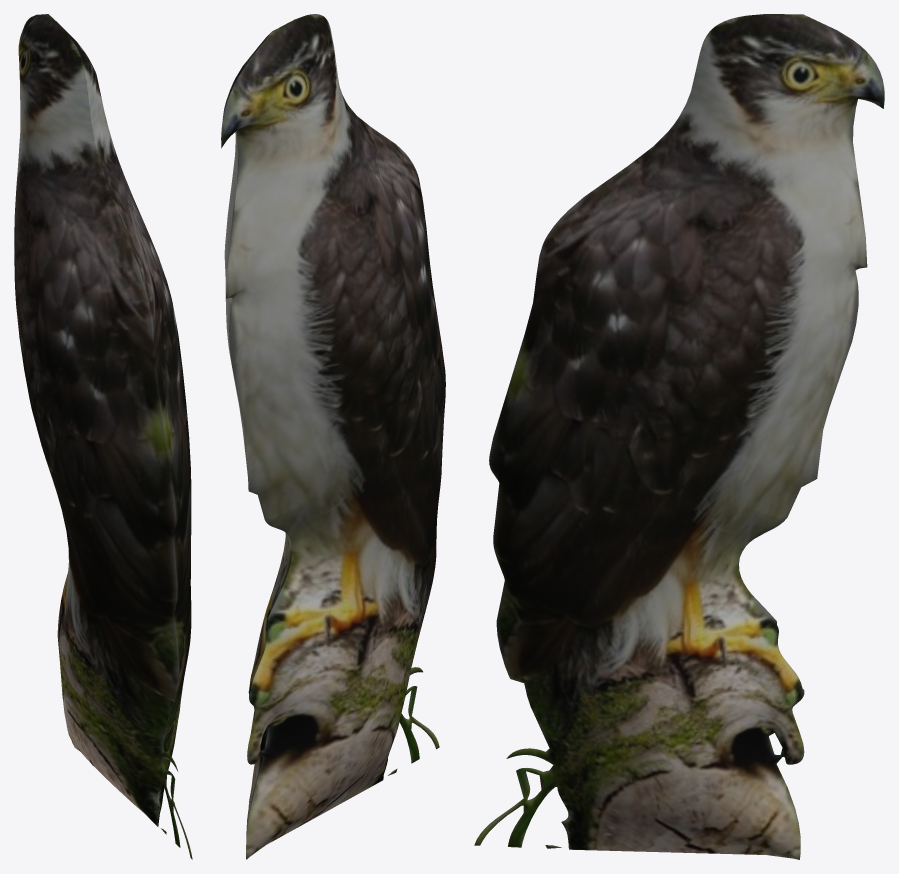
3 renders of one model, left to right at view 1: azimuth 30°, elevation 25°; view 2: azimuth 150°, elevation 25°; view 3: azimuth 270°, elevation 25°, orthographic. The views are drawn at different scales.
Visible parts, largest first — view 1: node1; view 2: node1; view 3: node1.
Part boxes in pixels (x1,y1,x2,y2): node1: (14,14,192,859); node1: (221,14,445,859); node1: (474,14,884,859).
Bounding box in the file's own units: 0.4976 × 2.69 × 1.2.
Materials: 1 (1 with a texture image).
